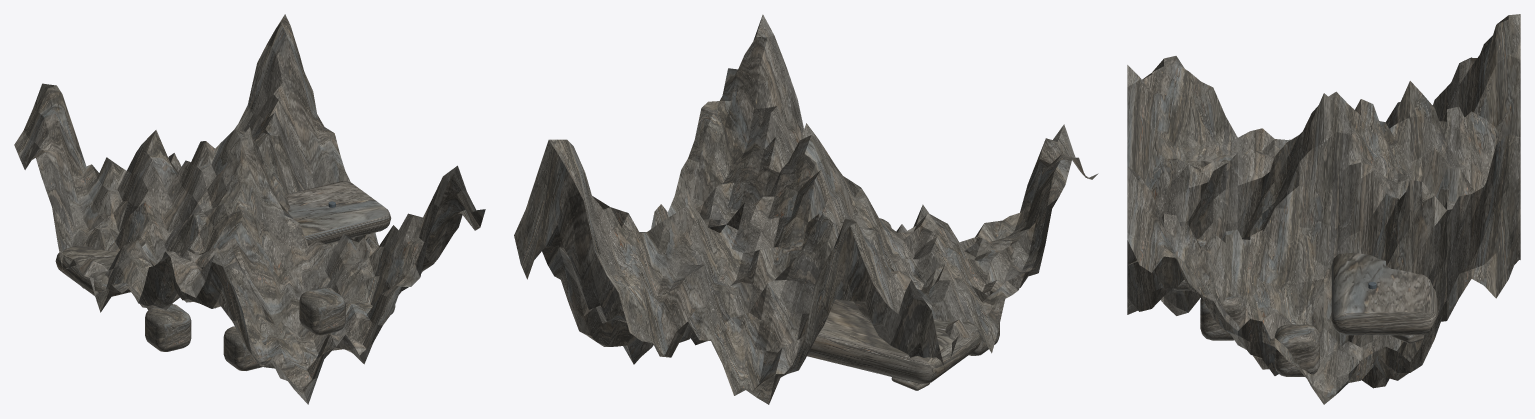
File: cliff_face.glb
3 views of the same model, side by side, from view 1: azimuth 30°, elevation 25°; view 2: azimuth 150°, elevation 25°; view 3: azimuth 270°, elevation 25° (orthographic). The views are drawn at different scales.
Visible parts, largest first — view 1: CliffMass, CliffShelf, CliffRock2, CliffRock4, CliffRock3; view 2: CliffMass, CliffShelf; view 3: CliffMass, CliffShelf, CliffRock0, CliffRock1.
Boxes of the visible parts, bbox=[...] form: CliffMass: bbox=[14, 14, 485, 404]; CliffShelf: bbox=[55, 181, 391, 296]; CliffRock2: bbox=[299, 287, 345, 335]; CliffRock4: bbox=[145, 304, 191, 351]; CliffRock3: bbox=[223, 326, 268, 370]; CliffMass: bbox=[514, 14, 1098, 404]; CliffShelf: bbox=[619, 299, 981, 383]; CliffMass: bbox=[1127, 14, 1520, 404]; CliffShelf: bbox=[1331, 252, 1437, 335]; CliffRock0: bbox=[1274, 324, 1319, 376]; CliffRock1: bbox=[1200, 296, 1245, 340].
Size of the model in its own units: 26 by 18.96 by 26.
Materials: 3 (3 with a texture image).
